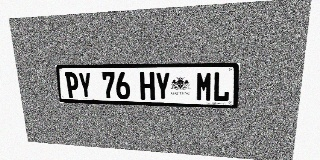6: (115, 72, 130, 99)
7: (101, 72, 116, 99)
H: (139, 72, 155, 100)
L: (212, 72, 230, 102)
M: (196, 72, 213, 101)
P: (64, 72, 80, 98)
Y: (155, 72, 170, 100), (77, 72, 93, 98)
